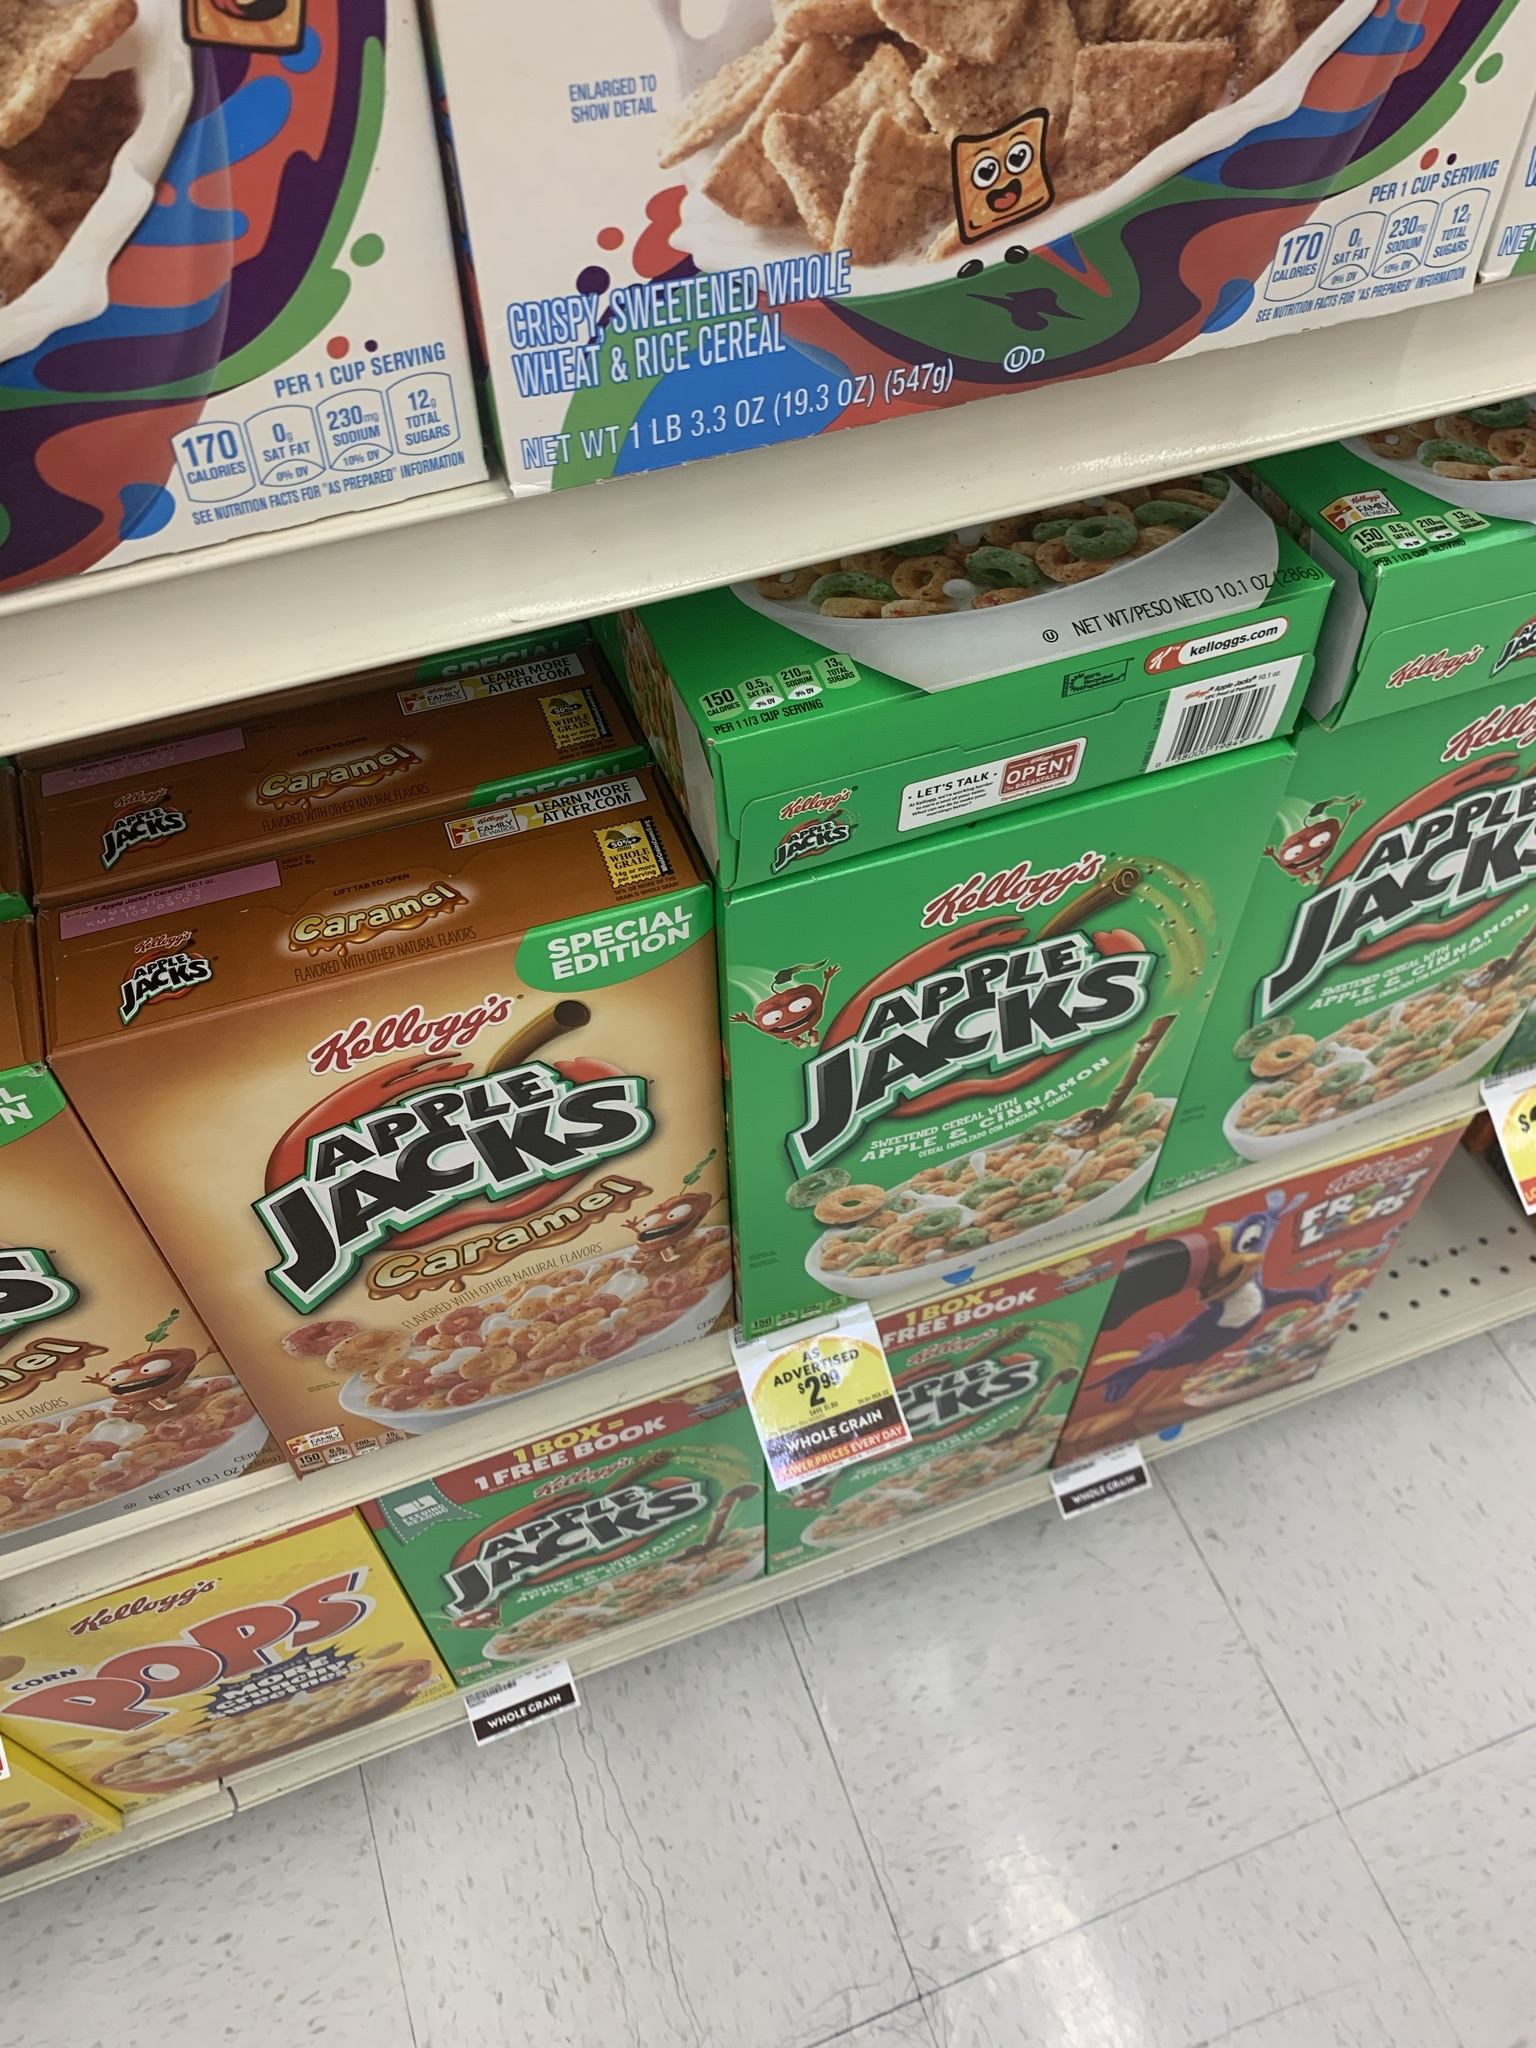Cereal apple jacks: (103, 1051, 742, 1379), (742, 898, 1197, 1230), (1321, 742, 1533, 1109), (803, 1355, 1099, 1551), (361, 1493, 815, 1619)
Cereal pops: (27, 1646, 449, 1769)
